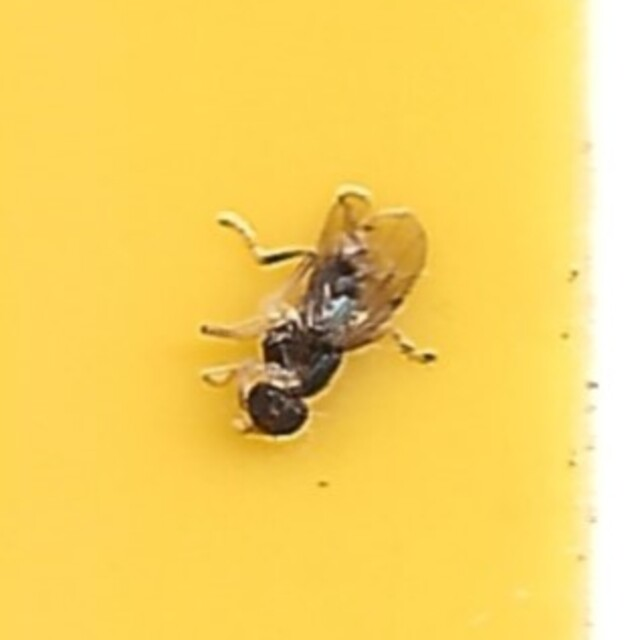Brachycera: (202, 203, 438, 437)
